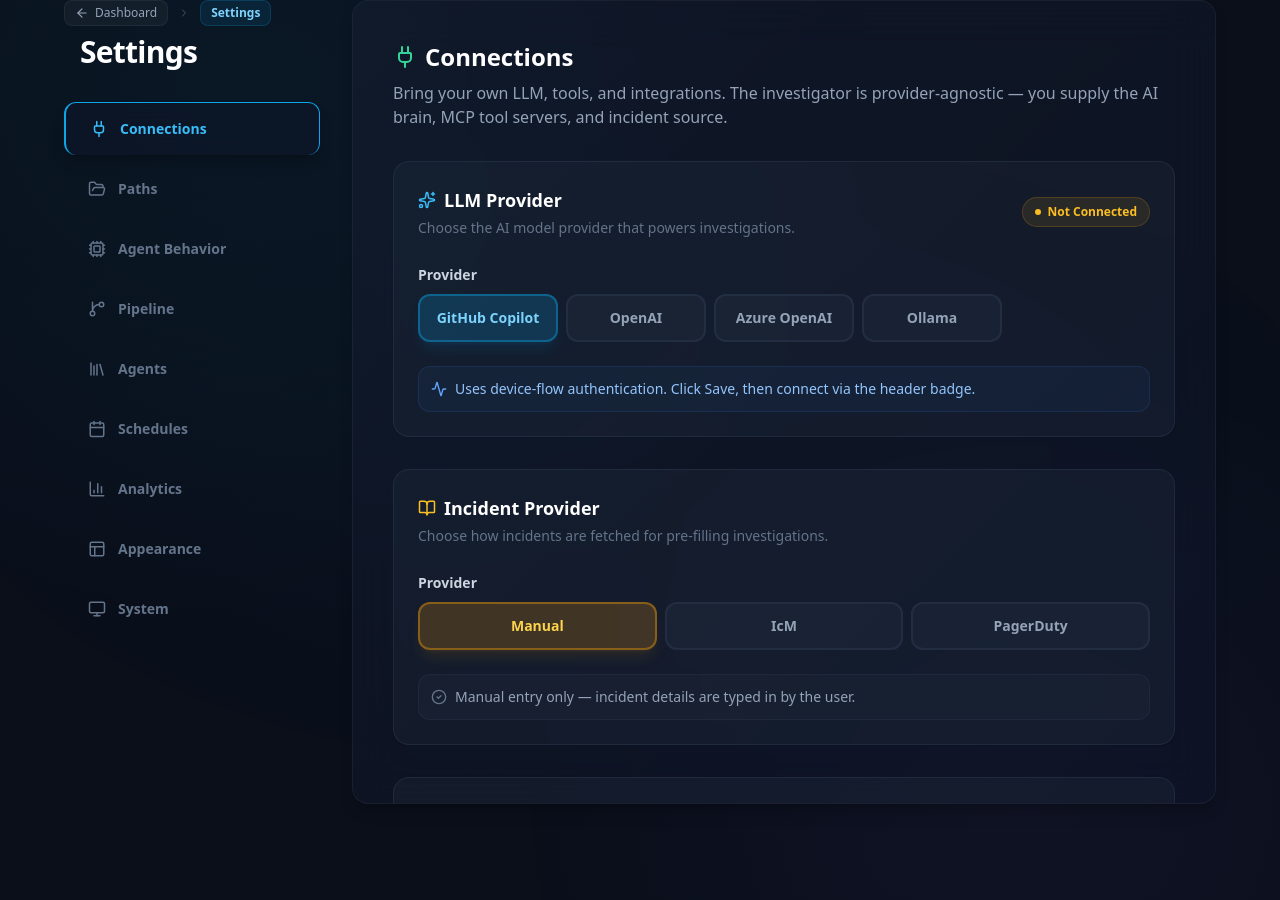
Scenario: Settings › Tab Switching › switches to Analytics tab and shows widget selection
Expected: the heading "Settings" is shown, [80, 31, 197, 72]
Click the button "Analytics" at [192, 489], box [64, 463, 320, 515]
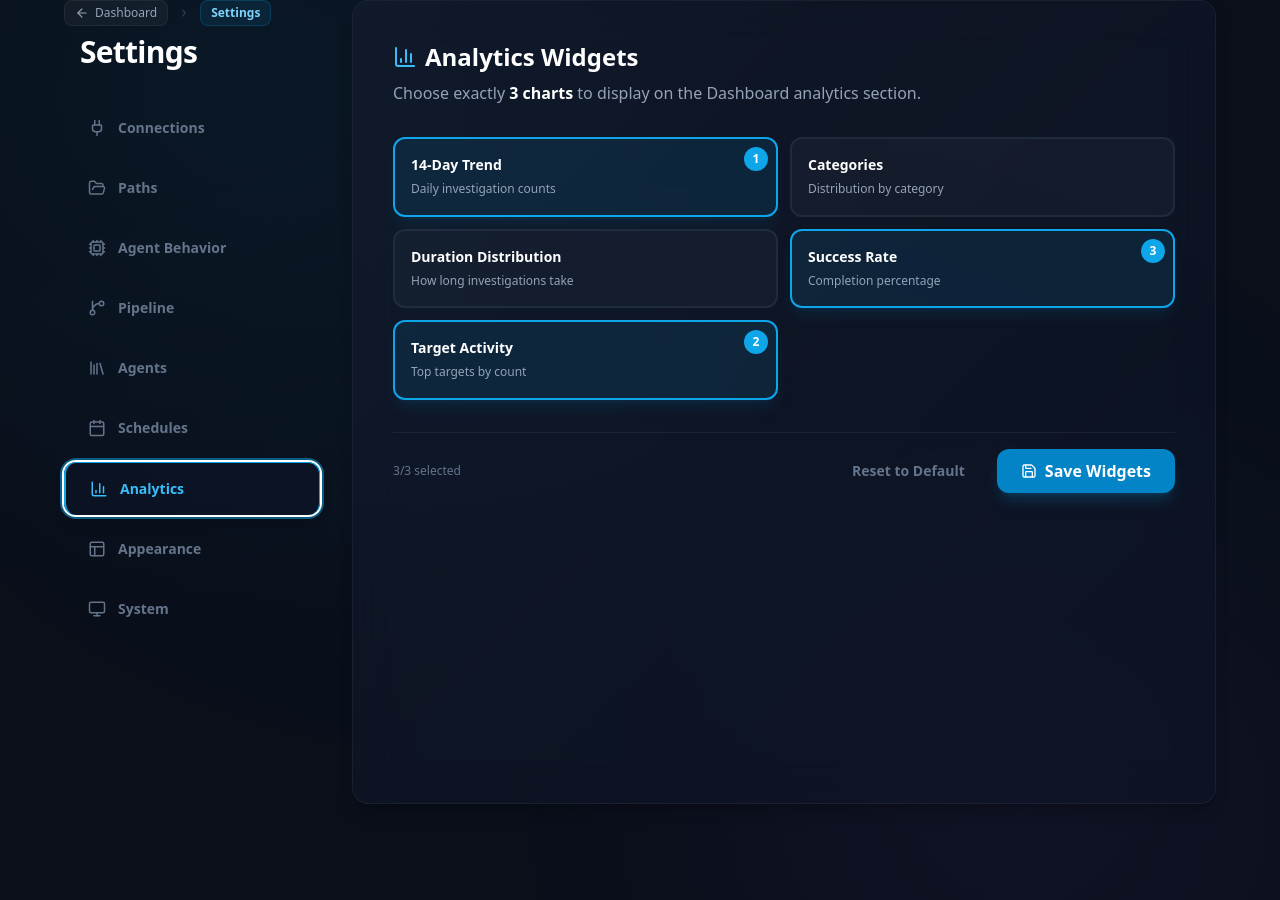
Now the heading "Analytics Widgets" is shown, box [393, 40, 638, 73]
Now the text "14-Day Trend" is shown, box [411, 155, 502, 174]
